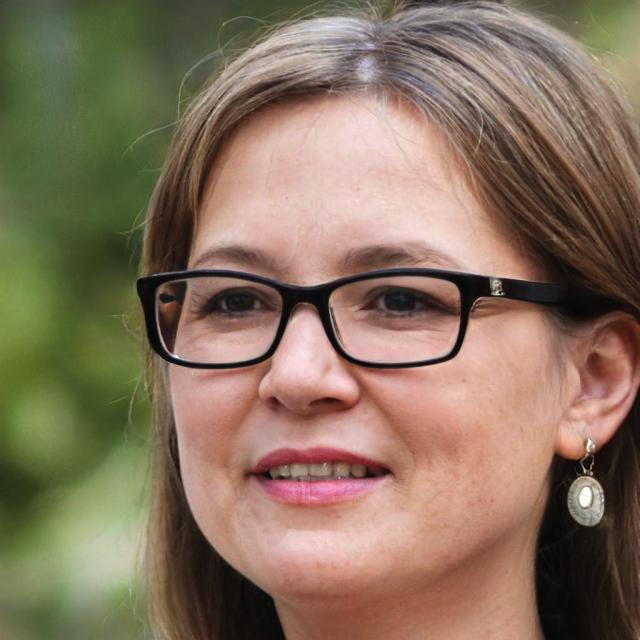lens: (328, 276, 463, 362), (156, 277, 283, 366)
